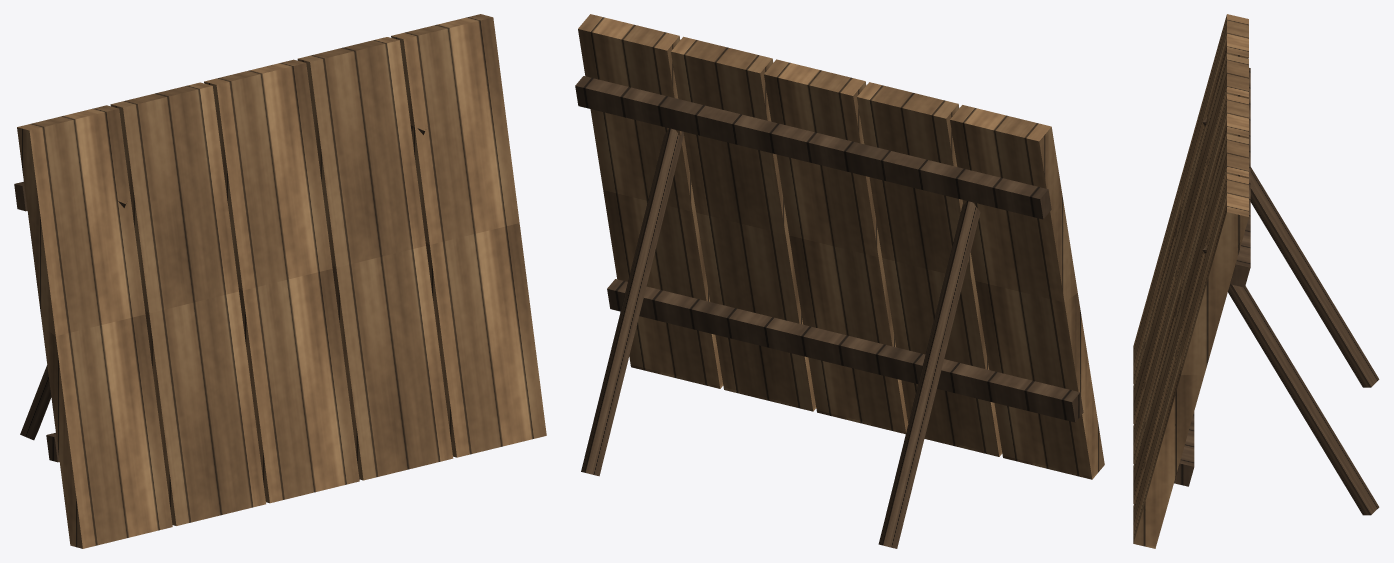
Rendered from Mantlet_1_LOD1.gltf.
3 views of the same model, side by side, from view 1: azimuth 30°, elevation 25°; view 2: azimuth 150°, elevation 25°; view 3: azimuth 270°, elevation 25° (orthographic). The views are drawn at different scales.
Visible parts, largest first — view 1: Mantlet_1_LOD1; view 2: Mantlet_1_LOD1; view 3: Mantlet_1_LOD1.
Part boxes in pixels (bbox=[...]): Mantlet_1_LOD1: bbox=[14, 14, 546, 548]; Mantlet_1_LOD1: bbox=[575, 14, 1104, 548]; Mantlet_1_LOD1: bbox=[1133, 14, 1379, 548].
Size of the model in its own units: 2.5 by 1.98 by 1.3.
Materials: 2 (2 with a texture image).
